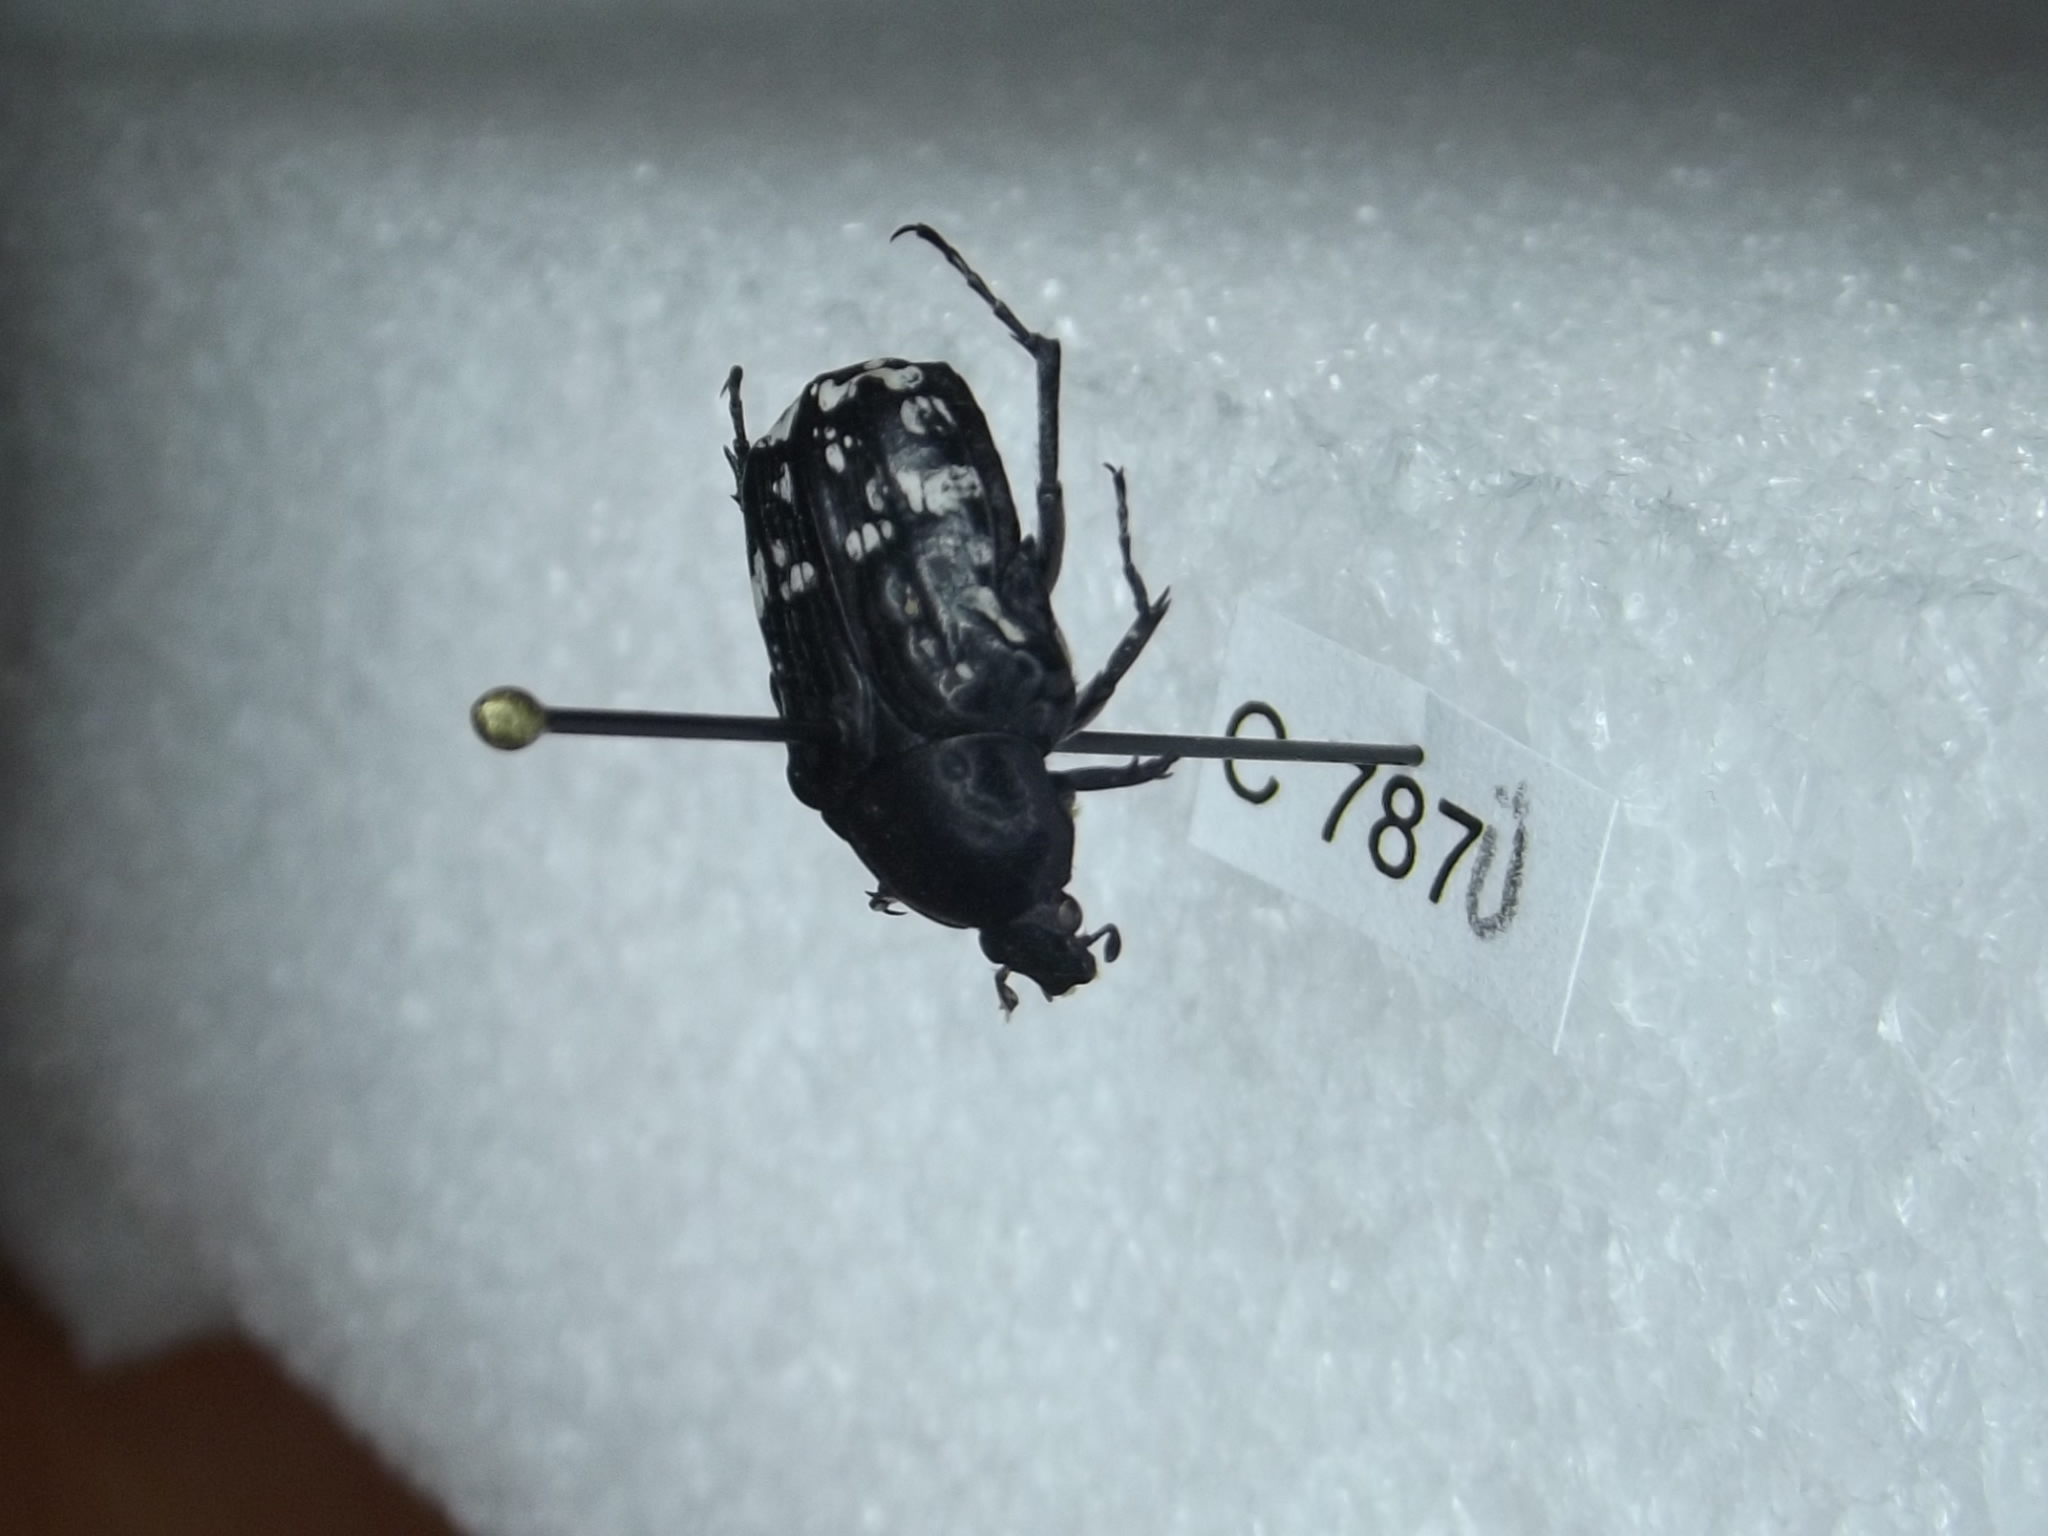Oxythyrea_albopicta: (719, 213, 1205, 1133)
